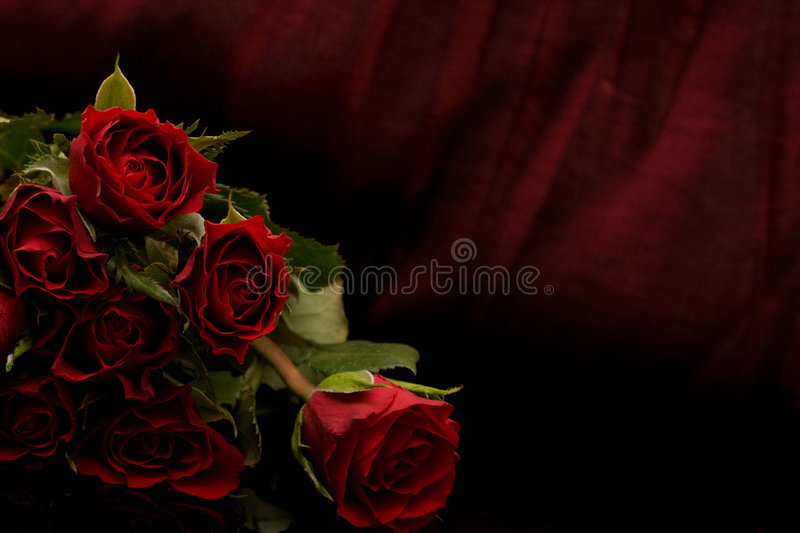RedRose: (284, 379, 471, 527), (86, 392, 258, 508), (188, 219, 294, 356), (78, 102, 212, 210), (3, 177, 115, 299), (49, 298, 171, 378), (4, 379, 73, 470)
